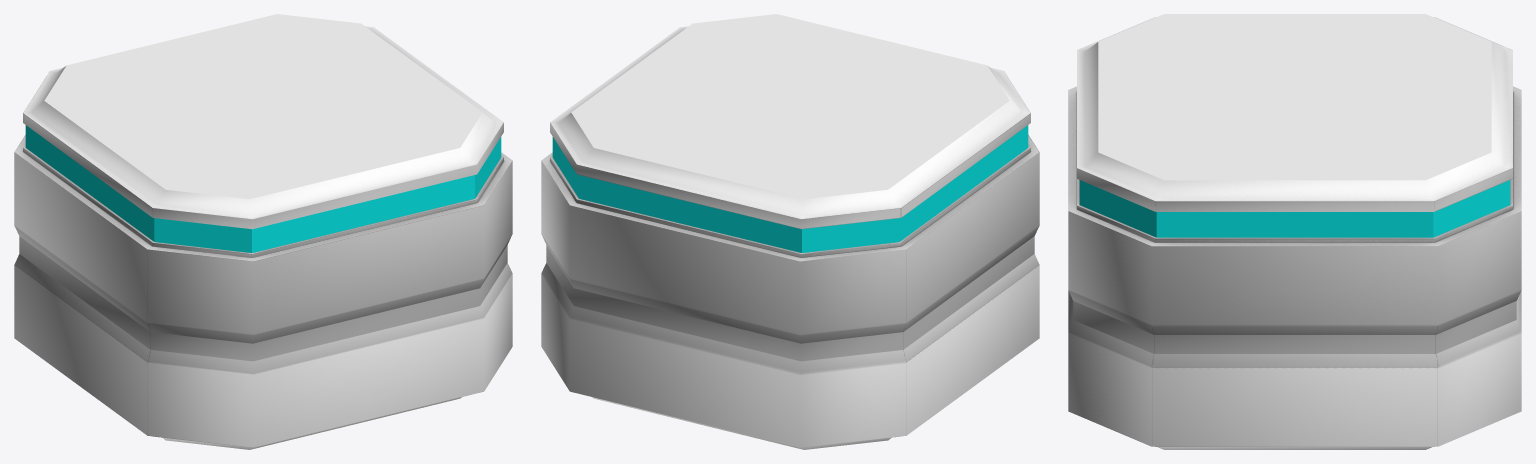
The picture shows the model from 3 angles, left to right: view 1: azimuth 30°, elevation 25°; view 2: azimuth 150°, elevation 25°; view 3: azimuth 270°, elevation 25°; orthographic projection. The views are drawn at different scales.
Visible parts, largest first — view 1: Stelis_Crate_1; view 2: Stelis_Crate_1; view 3: Stelis_Crate_1.
Part boxes in pixels (x1=…): Stelis_Crate_1: x1=14, y1=14, x2=512, y2=449; Stelis_Crate_1: x1=541, y1=14, x2=1039, y2=449; Stelis_Crate_1: x1=1068, y1=14, x2=1521, y2=449.
Size of the model in its own units: 2.08 by 1.36 by 2.08.
2 materials, 1 textured.
